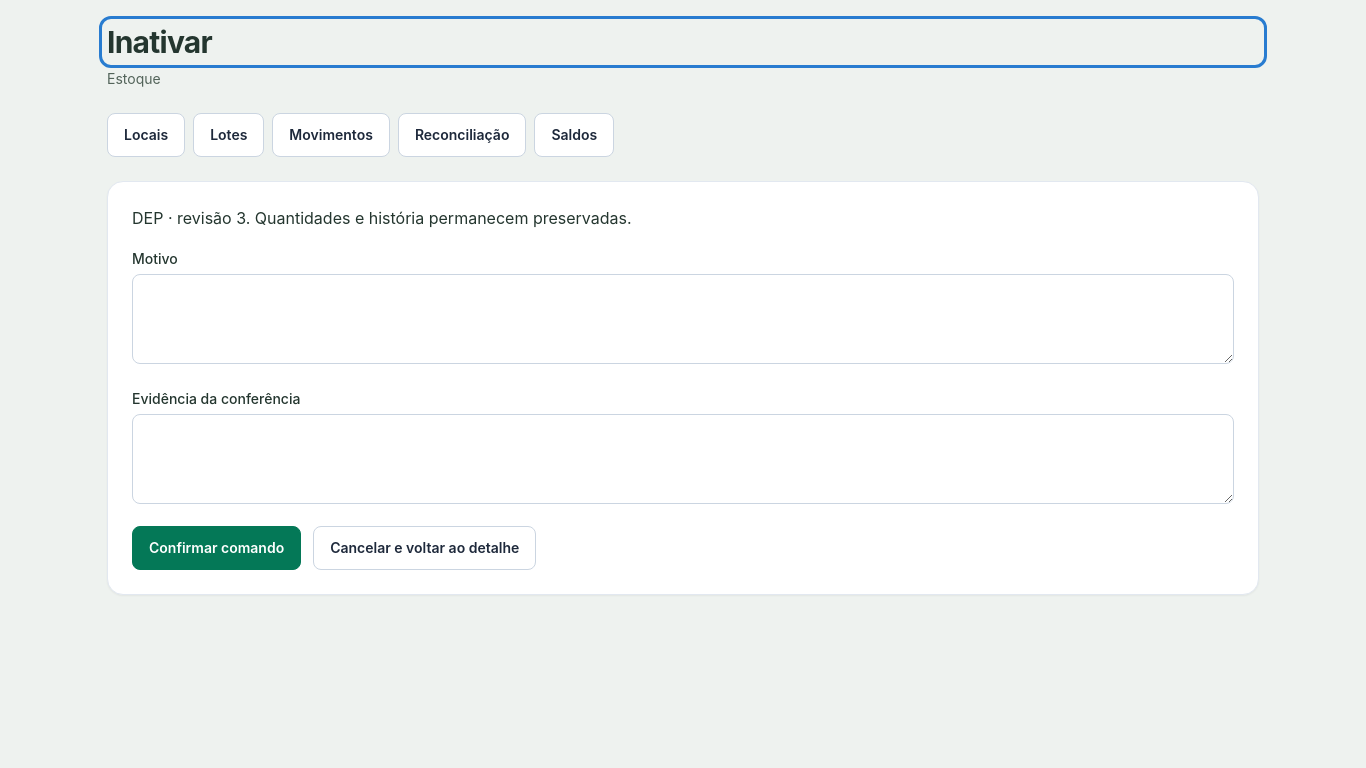
Test: Cadastros e consultas de estoque › envia comando Admin locais/ativo com motivo, evidência, revisão e idempotência
Step 1. Type "Conferência física" into the text box labelled "Motivo" → (683, 319), box 132,274 -> 1234,364
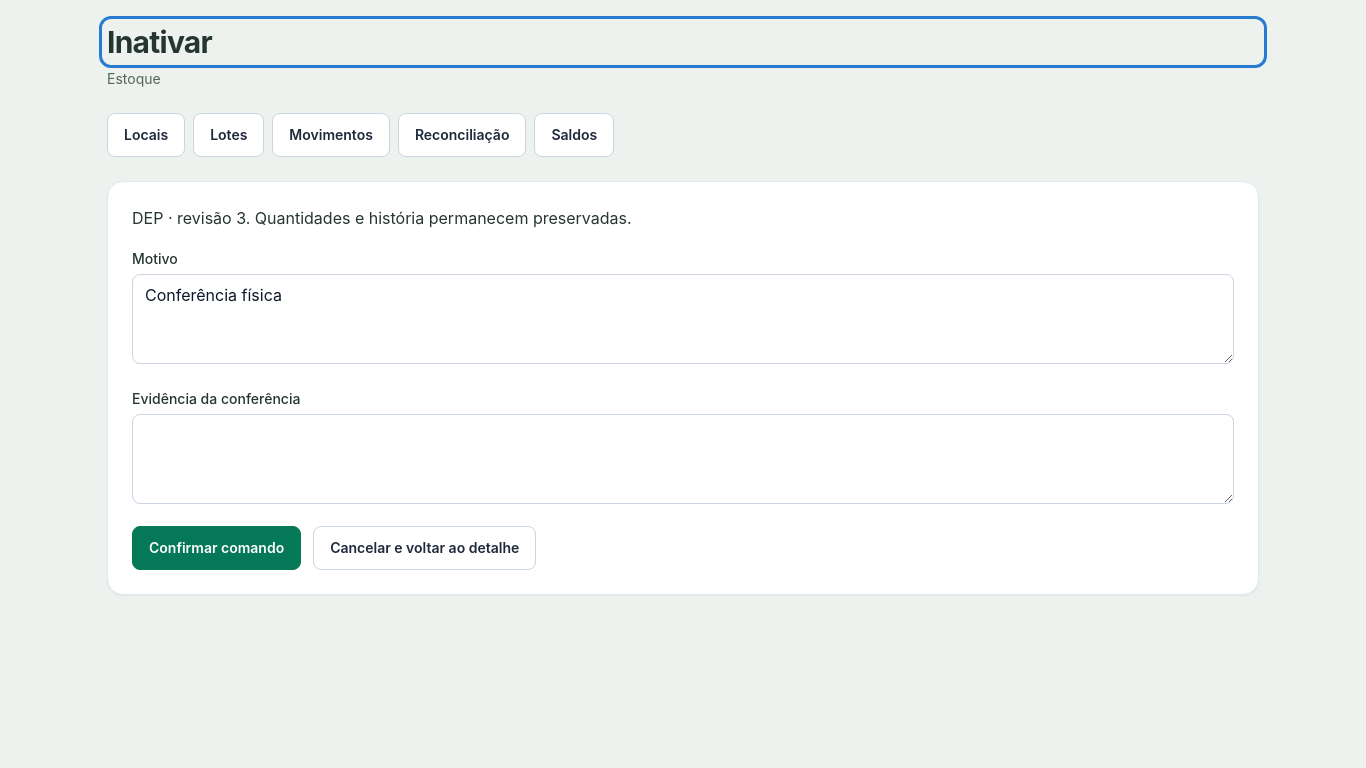
Step 2. Type "Documentação verificada" into the text box labelled "Evidência da conferência" → (683, 459), box 132,414 -> 1234,504
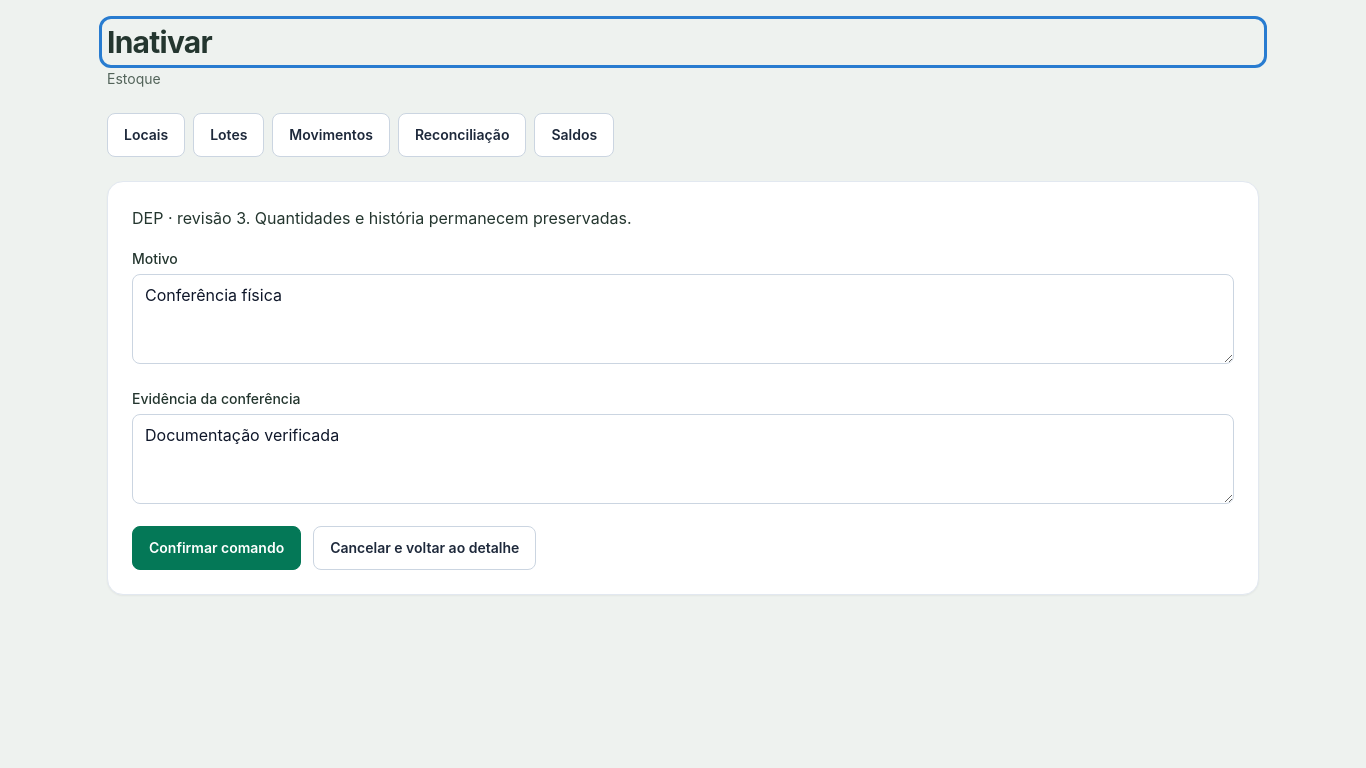
Step 3. Click the button "Confirmar comando" → (217, 548), box 132,526 -> 301,570
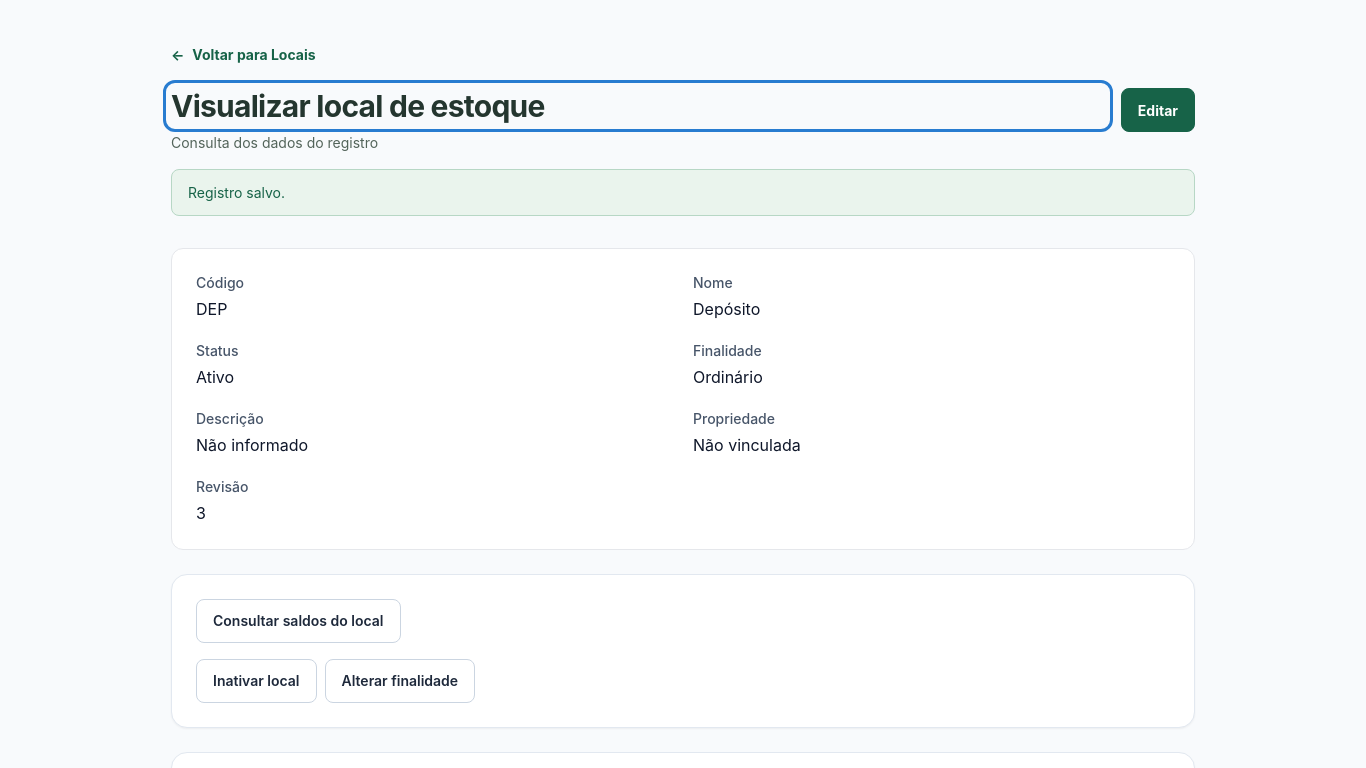
Expected: the heading "Visualizar local de estoque" is shown, 171,88 -> 545,124
